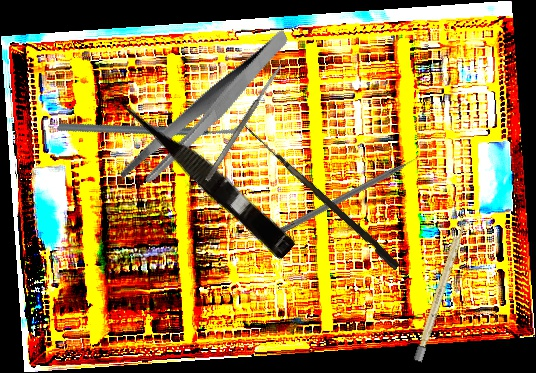Chopper: (56, 52, 246, 201)
Dressing Forceps: (96, 29, 317, 193)
Hook Surgical: (234, 121, 403, 271), (267, 147, 434, 242)
Micro Scissor: (112, 88, 300, 261)
Scalpel Handle: (413, 218, 468, 363)
Spatula Surgical: (203, 62, 285, 183)
